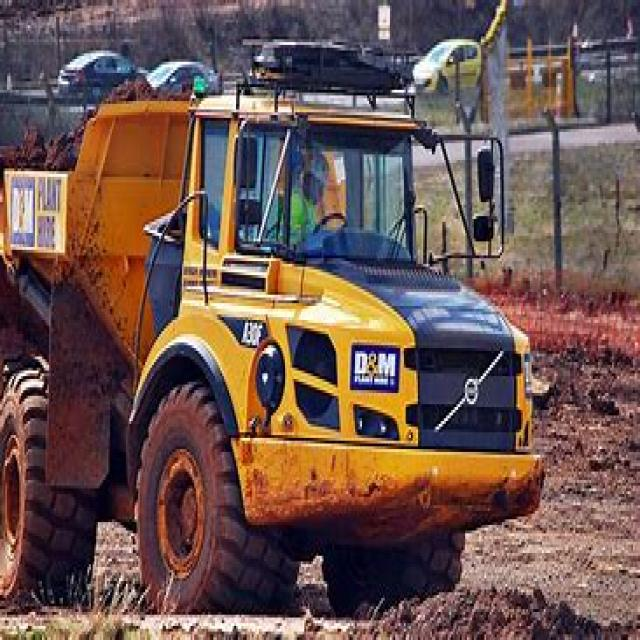dump_truck: (9, 42, 544, 612)
